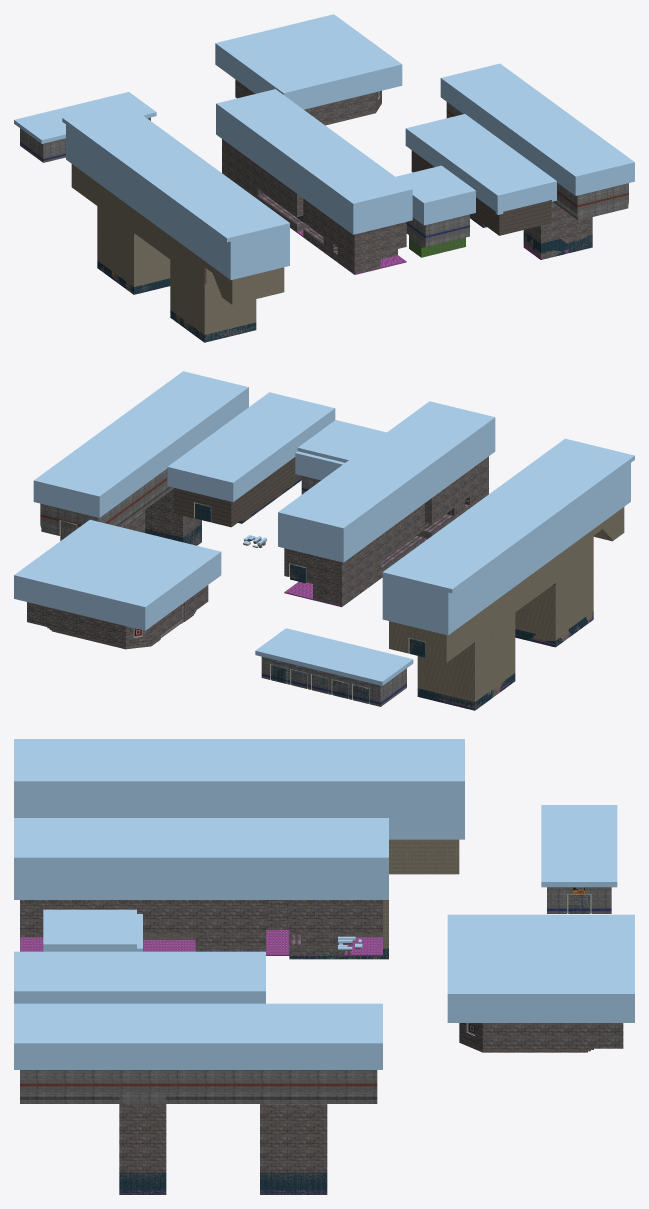
Rendered from agtricks.glb.
The picture shows the model from 3 angles, top to bottom: view 1: azimuth 30°, elevation 25°; view 2: azimuth 150°, elevation 25°; view 3: azimuth 270°, elevation 25°; orthographic projection. The views are drawn at different scales.
Parts seen in each view (by area): view 1: agtricks.bsp; view 2: agtricks.bsp; view 3: agtricks.bsp.
Boxes of the visible parts, left/top/right/bottom form: agtricks.bsp: left=14, top=14, right=634, bottom=342; agtricks.bsp: left=14, top=371, right=634, bottom=710; agtricks.bsp: left=14, top=739, right=634, bottom=1194.
Size of the model in its own units: 7040 by 2304 by 6784.
Materials: 34 (34 with a texture image).
